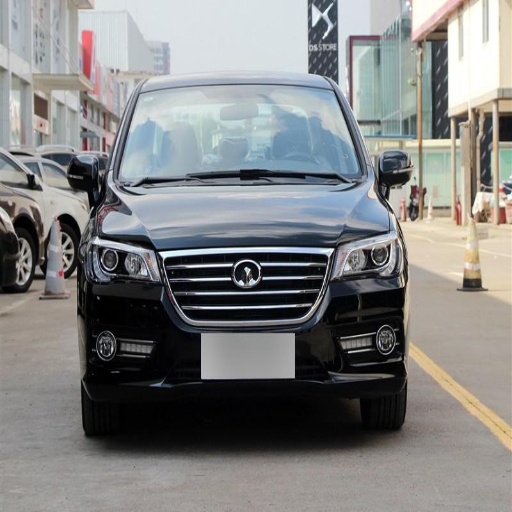front_bumper: (85, 235, 407, 399)
front_right_light: (94, 228, 158, 280)
hood: (108, 184, 390, 260)
left_mirror: (378, 150, 412, 188)
